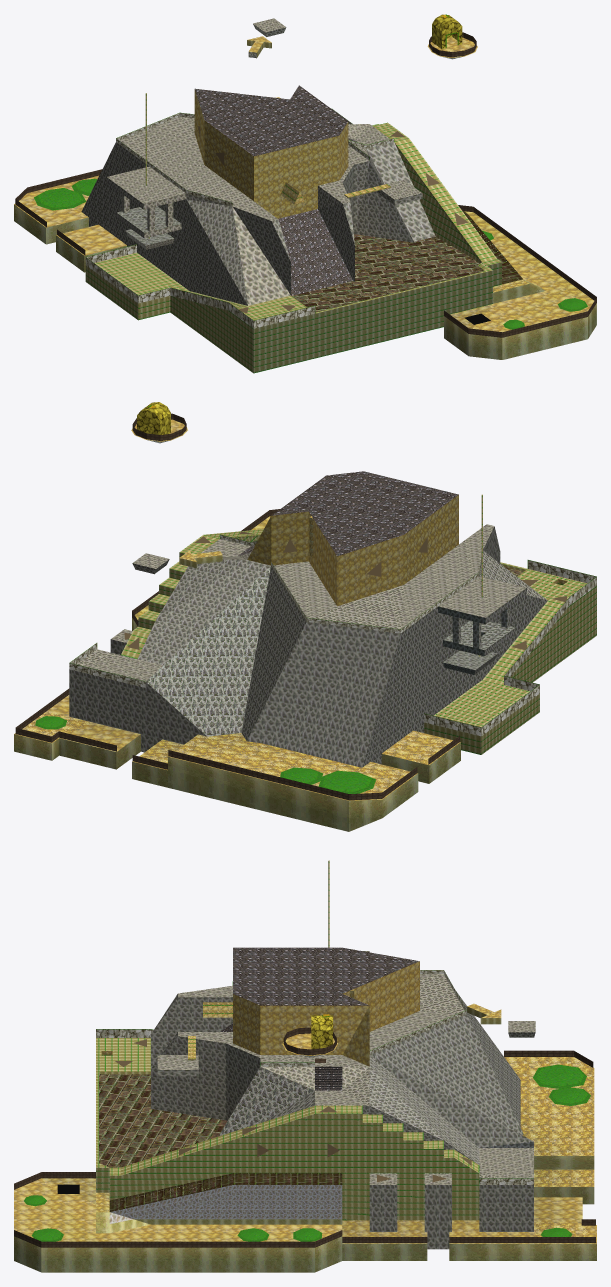
The model's file is battan_king_map_all.glb.
3 views of the same model, one above another, from view 1: azimuth 30°, elevation 25°; view 2: azimuth 150°, elevation 25°; view 3: azimuth 270°, elevation 25° (orthographic). The views are drawn at different scales.
Visible parts, largest first — view 1: battan_king_map_all; view 2: battan_king_map_all; view 3: battan_king_map_all.
Part boxes in pixels (x1,y1,x2,y2): battan_king_map_all: [14, 14, 596, 373]; battan_king_map_all: [14, 402, 596, 831]; battan_king_map_all: [14, 860, 596, 1272].
Size of the model in its own units: 8.2 by 4.93 by 10.65.
15 materials, 15 textured.
